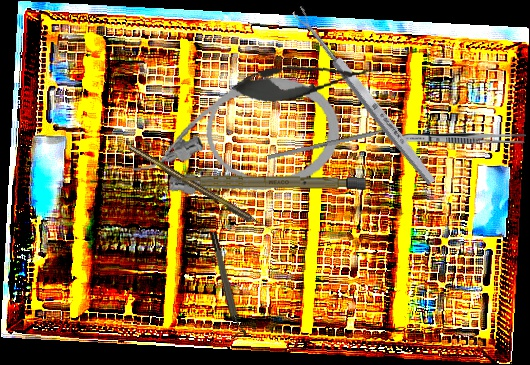Cannula: (123, 68, 348, 209)
Dressing Forceps: (400, 132, 526, 144)
Fixation Ring: (207, 229, 248, 340)
Hook Surgical: (127, 143, 275, 236)
Micro Scissor: (230, 51, 381, 110)
Pusher: (267, 122, 409, 161)
Scalpel Handle: (175, 174, 367, 190)
Surgical Spoon: (290, 4, 439, 188)
